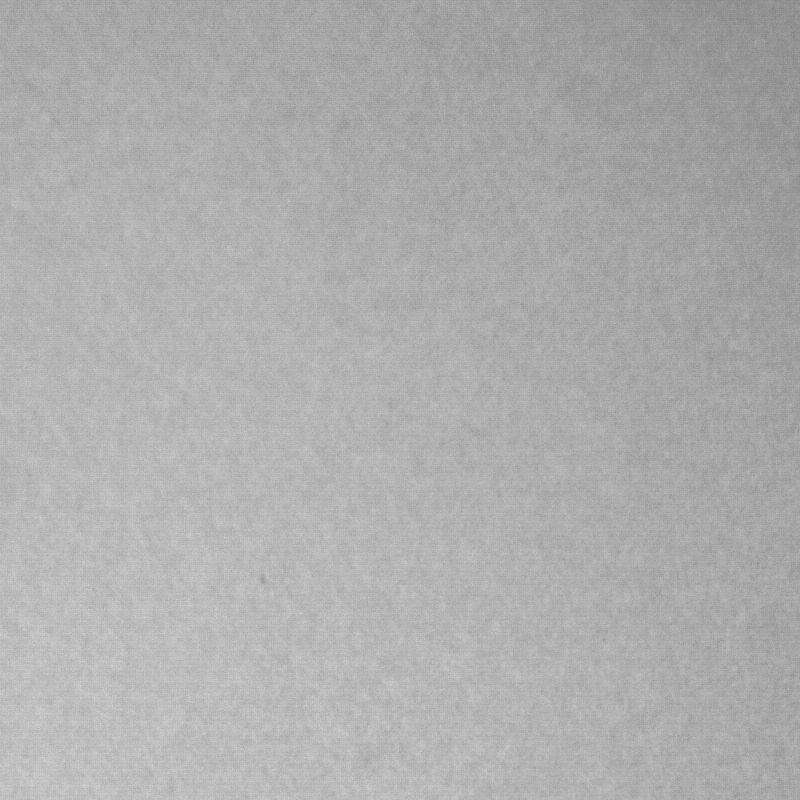defect: (261, 574, 271, 590)
